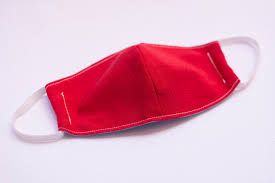mask: (6, 32, 271, 146)
